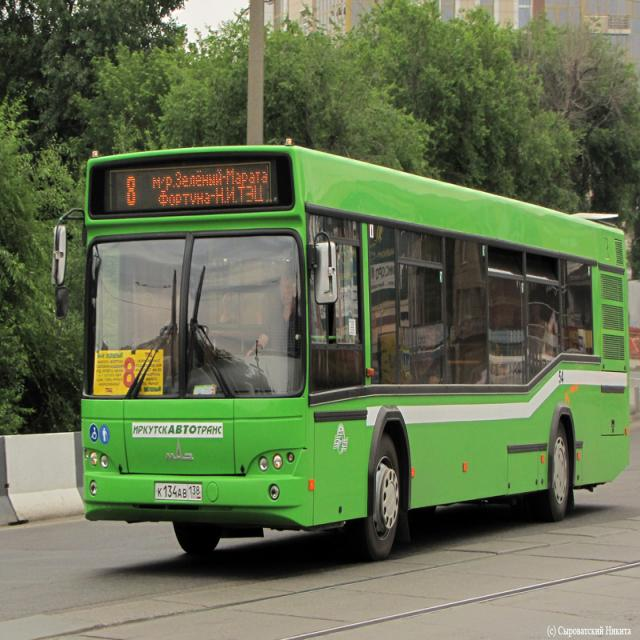number-of-bus: (124, 357, 137, 388)
